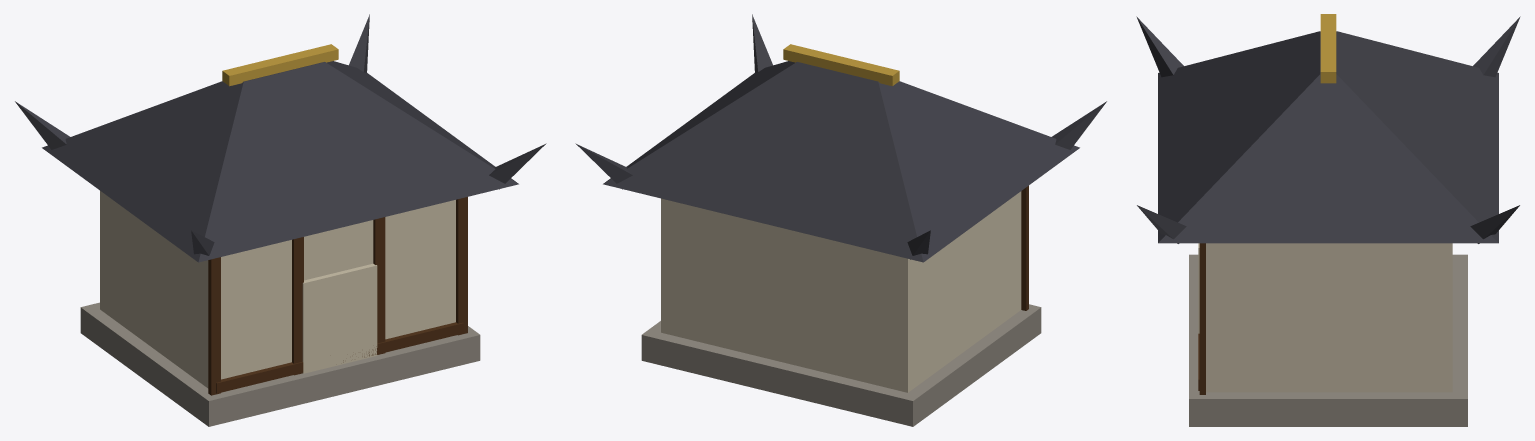
Rendered from macaque_house_a_broken.glb.
3 renders of one model, left to right at view 1: azimuth 30°, elevation 25°; view 2: azimuth 150°, elevation 25°; view 3: azimuth 270°, elevation 25°, orthographic. The views are drawn at different scales.
Parts seen in each view (by area): view 1: macaque_house_a_piece7, macaque_house_a_piece10, macaque_house_a_piece6, macaque_house_a_piece3, macaque_house_a_piece5, macaque_house_a_piece11, macaque_house_a_piece4, macaque_house_a_piece9, macaque_house_a_piece2, macaque_house_a_piece1, macaque_house_a_piece8; view 2: macaque_house_a_piece1, macaque_house_a_piece3, macaque_house_a_piece4, macaque_house_a_piece5, macaque_house_a_piece8, macaque_house_a_piece2, macaque_house_a_piece0, macaque_house_a_piece11, macaque_house_a_piece6, macaque_house_a_piece7, macaque_house_a_piece9; view 3: macaque_house_a_piece6, macaque_house_a_piece0, macaque_house_a_piece1, macaque_house_a_piece7, macaque_house_a_piece8, macaque_house_a_piece9, macaque_house_a_piece12, macaque_house_a_piece10, macaque_house_a_piece5, macaque_house_a_piece11, macaque_house_a_piece3, macaque_house_a_piece4.
Boxes of the visible parts, box(x1,y1,x2,y2) form: macaque_house_a_piece7: box(204, 302, 480, 426); macaque_house_a_piece10: box(247, 131, 434, 308); macaque_house_a_piece6: box(310, 97, 546, 303); macaque_house_a_piece3: box(80, 171, 216, 384); macaque_house_a_piece5: box(15, 98, 265, 162); macaque_house_a_piece11: box(175, 129, 255, 310); macaque_house_a_piece4: box(62, 148, 232, 273); macaque_house_a_piece9: box(253, 46, 433, 153); macaque_house_a_piece2: box(151, 74, 363, 424); macaque_house_a_piece1: box(176, 44, 350, 116); macaque_house_a_piece8: box(332, 14, 389, 89); macaque_house_a_piece1: box(707, 47, 905, 387); macaque_house_a_piece3: box(773, 115, 1056, 426); macaque_house_a_piece4: box(751, 103, 1001, 392); macaque_house_a_piece5: box(780, 83, 957, 336); macaque_house_a_piece8: box(575, 87, 752, 382); macaque_house_a_piece2: box(743, 79, 1038, 374); macaque_house_a_piece0: box(632, 92, 743, 374); macaque_house_a_piece11: box(969, 101, 1106, 228); macaque_house_a_piece6: box(676, 14, 789, 130); macaque_house_a_piece7: box(1016, 224, 1041, 334); macaque_house_a_piece9: box(665, 44, 810, 138); macaque_house_a_piece6: box(1137, 101, 1342, 362); macaque_house_a_piece0: box(1339, 138, 1467, 426); macaque_house_a_piece1: box(1281, 14, 1498, 352); macaque_house_a_piece7: box(1189, 254, 1332, 426); macaque_house_a_piece8: box(1345, 122, 1519, 376); macaque_house_a_piece9: box(1236, 55, 1367, 275); macaque_house_a_piece12: box(1326, 298, 1418, 426); macaque_house_a_piece10: box(1158, 56, 1270, 293); macaque_house_a_piece5: box(1257, 16, 1520, 111); macaque_house_a_piece11: box(1136, 16, 1271, 102); macaque_house_a_piece3: box(1452, 254, 1467, 310); macaque_house_a_piece4: box(1252, 46, 1467, 336).
Bounding box in the file's own units: 2.88 × 2.22 × 2.48.
